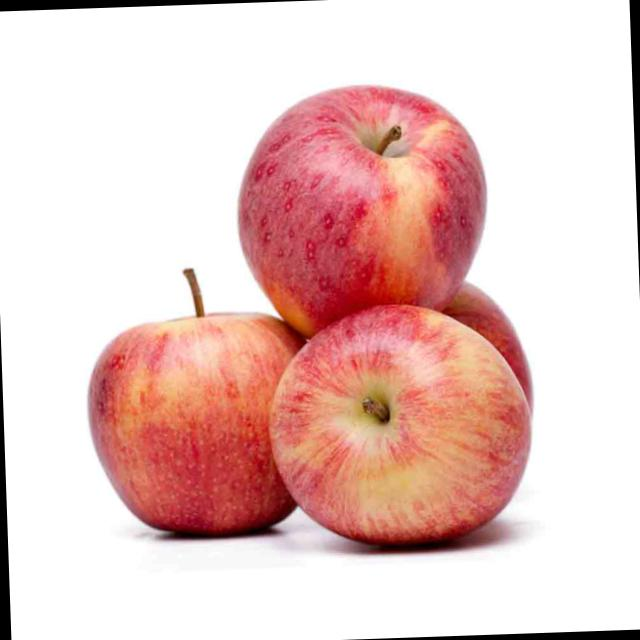apple: (253, 304, 571, 554), (72, 272, 312, 549), (232, 91, 481, 340)
